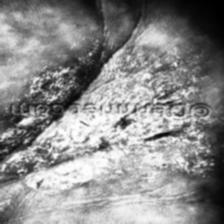Non-Cancerous Skin Condition: (0, 128, 224, 200), (15, 28, 200, 98)
